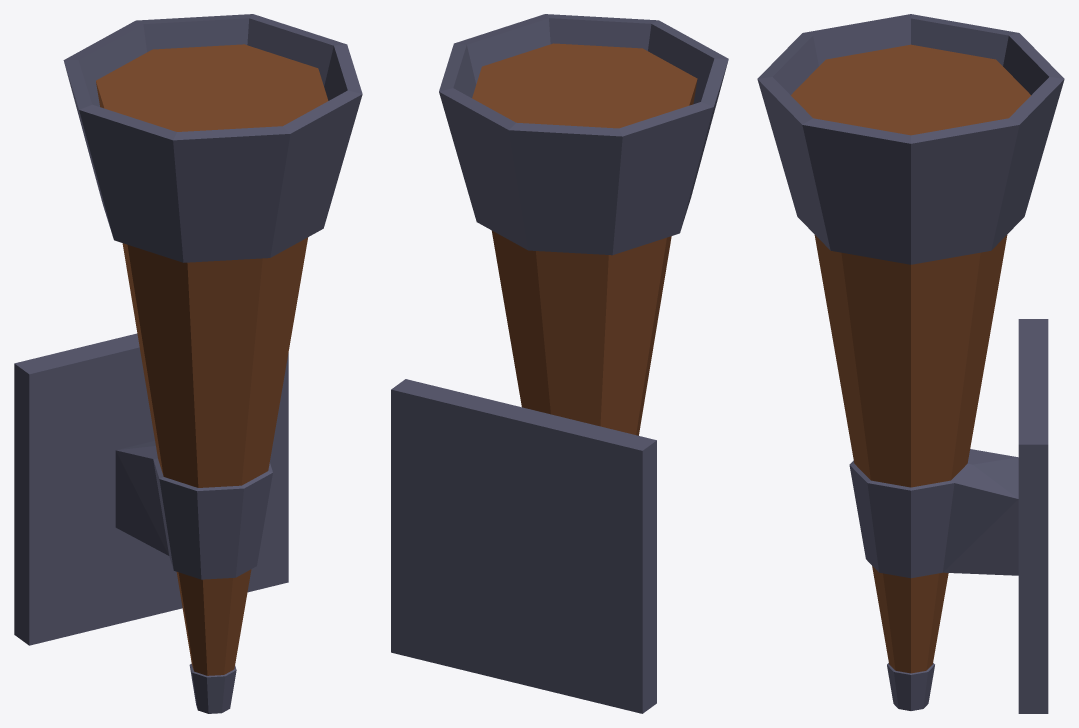
Rendered from Torch.fbx.
The picture shows the model from 3 angles, left to right: view 1: azimuth 30°, elevation 25°; view 2: azimuth 150°, elevation 25°; view 3: azimuth 270°, elevation 25°; orthographic projection. The views are drawn at different scales.
Parts seen in each view (by area): view 1: Cylinder.004; view 2: Cylinder.004; view 3: Cylinder.004.
Part boxes in pixels (left/top/right/bottom): Cylinder.004: left=14, top=14, right=362, bottom=713; Cylinder.004: left=391, top=14, right=728, bottom=713; Cylinder.004: left=757, top=14, right=1064, bottom=713.
Size of the model in its own units: 98.82 by 222 by 98.82.
